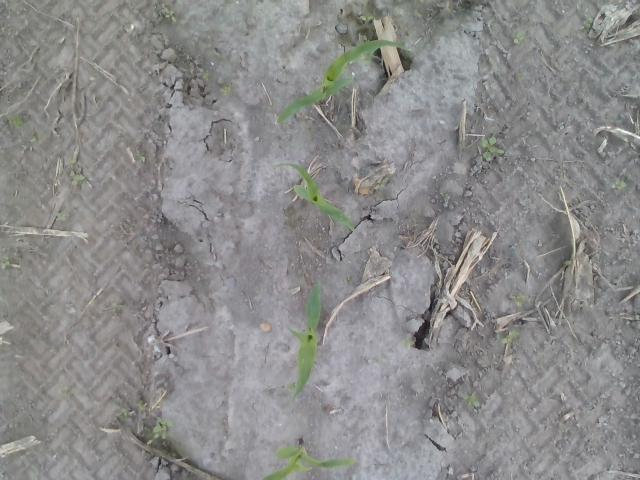Maize: (276, 38, 411, 121), (274, 162, 358, 232), (287, 282, 323, 402), (260, 439, 356, 480)
Weeds: (146, 416, 173, 445), (481, 136, 504, 160), (5, 114, 24, 128), (70, 170, 86, 186), (502, 330, 519, 344), (463, 393, 480, 407), (612, 178, 626, 194), (512, 30, 525, 45), (374, 177, 388, 190), (164, 8, 177, 22), (511, 295, 525, 307), (362, 50, 374, 64), (402, 335, 414, 348), (580, 17, 592, 30), (117, 406, 128, 419), (0, 255, 10, 268), (286, 382, 296, 392), (360, 15, 374, 22), (220, 86, 232, 94), (138, 401, 147, 410), (56, 213, 66, 220), (134, 153, 144, 160), (66, 160, 76, 167), (202, 72, 210, 78), (31, 136, 38, 142), (564, 260, 572, 265), (364, 35, 369, 42), (440, 192, 448, 196)
